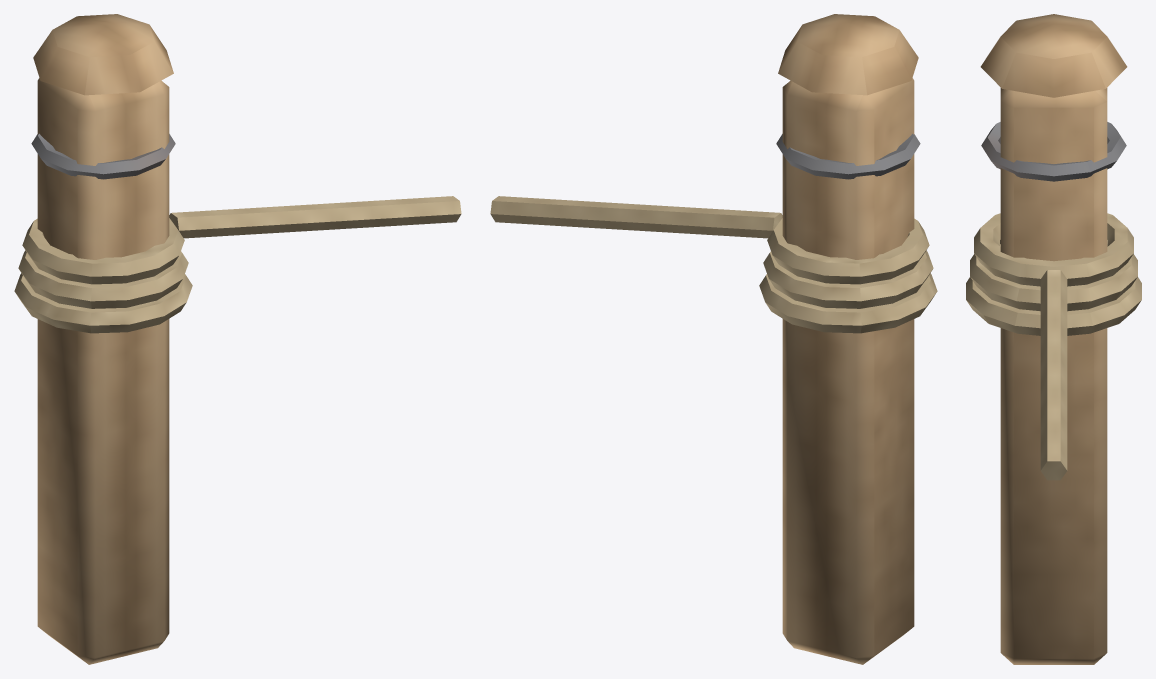
File: bridge_post.gltf
The picture shows the model from 3 angles, left to right: view 1: azimuth 30°, elevation 25°; view 2: azimuth 150°, elevation 25°; view 3: azimuth 270°, elevation 25°; orthographic projection.
Visible parts, largest first — view 1: bridge_post; view 2: bridge_post; view 3: bridge_post.
Boxes of the visible parts, bbox=[...] form: bridge_post: bbox=[14, 14, 461, 664]; bridge_post: bbox=[490, 14, 937, 664]; bridge_post: bbox=[966, 14, 1141, 664].
Bounding box in the file's own units: 0.7504 × 1.03 × 0.2632.
1 material, 1 textured.
